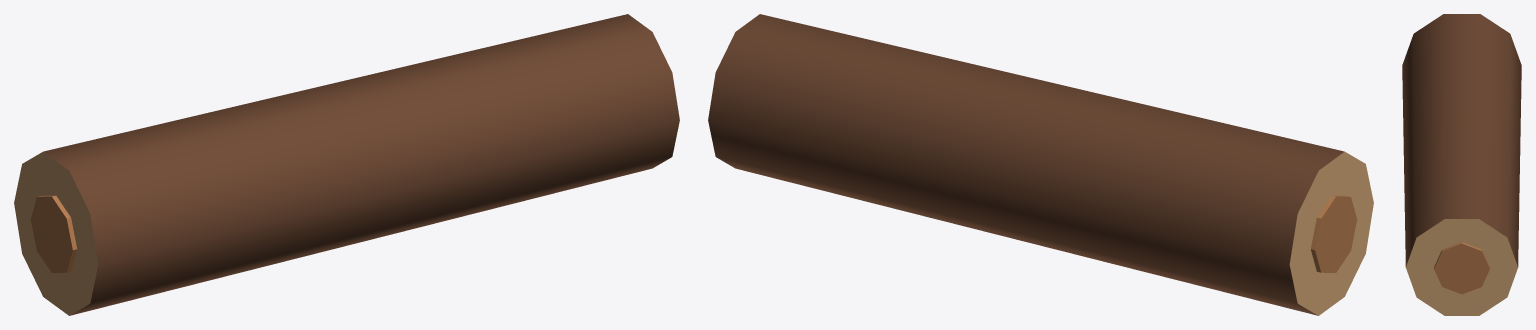
File: Res_Log.fbx
3 views of the same model, side by side, from view 1: azimuth 30°, elevation 25°; view 2: azimuth 150°, elevation 25°; view 3: azimuth 270°, elevation 25° (orthographic). The views are drawn at different scales.
Visible parts, largest first — view 1: Res_Log; view 2: Res_Log; view 3: Res_Log.
Boxes of the visible parts, x1=… form: Res_Log: x1=14, y1=14, x2=679, y2=315; Res_Log: x1=708, y1=14, x2=1373, y2=315; Res_Log: x1=1402, y1=14, x2=1521, y2=315.
Size of the model in its own units: 0.812 by 0.1902 by 0.2.
